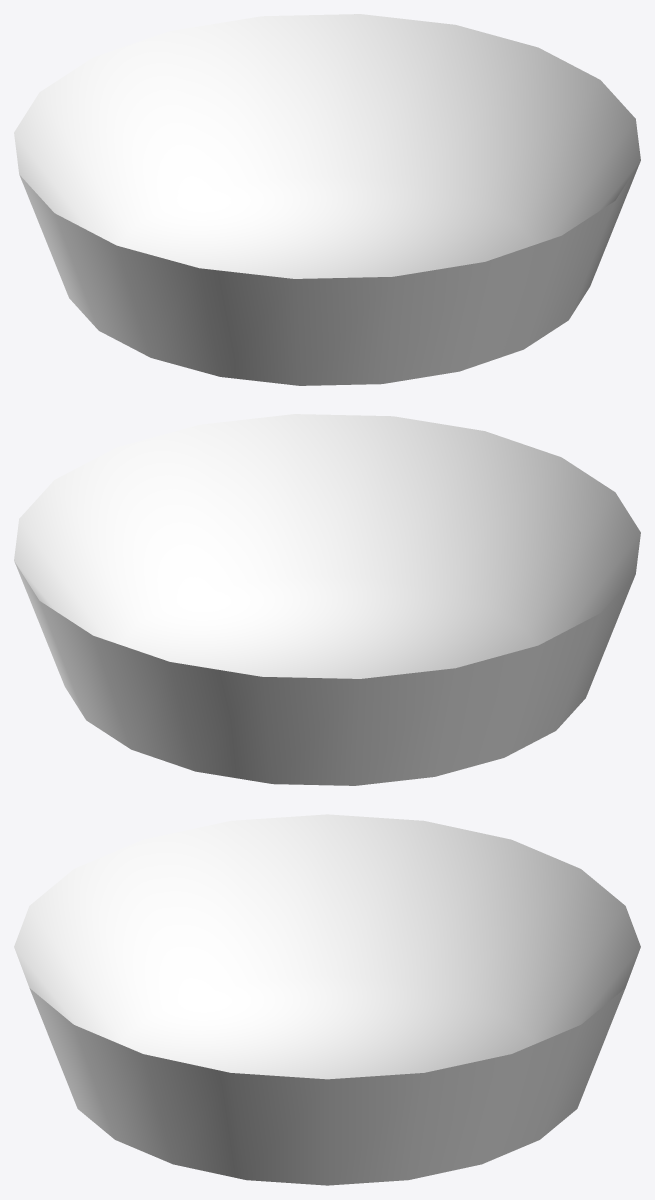
Rendered from SmallBowl.fbx.
The picture shows the model from 3 angles, top to bottom: view 1: azimuth 30°, elevation 25°; view 2: azimuth 150°, elevation 25°; view 3: azimuth 270°, elevation 25°; orthographic projection.
Parts seen in each view (by area): view 1: Bowl1; view 2: Bowl1; view 3: Bowl1.
Part boxes in pixels (box(x1,y1,x2,y2)): Bowl1: box(14, 14, 640, 385); Bowl1: box(14, 414, 640, 785); Bowl1: box(14, 814, 640, 1185).
Size of the model in its own units: 0.1832 by 0.0412 by 0.1832.
